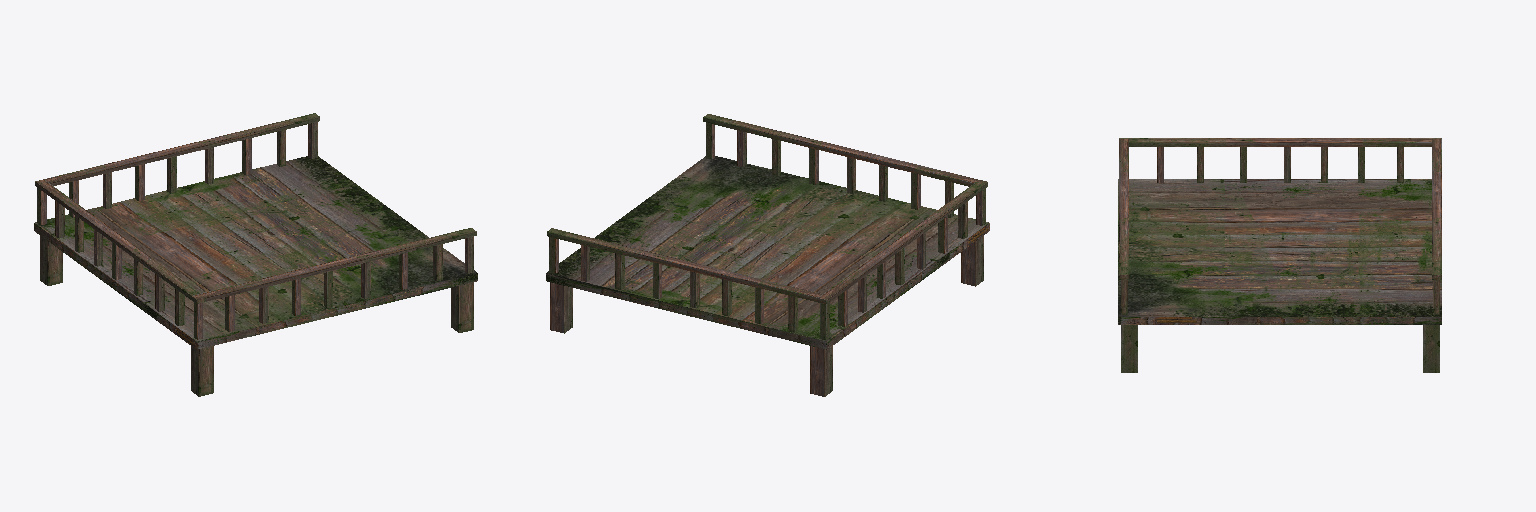
The picture shows the model from 3 angles: view 1: azimuth 30°, elevation 25°; view 2: azimuth 150°, elevation 25°; view 3: azimuth 270°, elevation 25°; orthographic projection.
Visible parts, largest first — view 1: pCube20; view 2: pCube20; view 3: pCube20.
Part boxes in pixels (x1,y1,x2,y2): pCube20: (34,113,477,396); pCube20: (546,114,989,396); pCube20: (1118,138,1441,372).
Bounding box in the file's own units: 17.06 × 5.72 × 17.06.
1 materials, 1 textured.